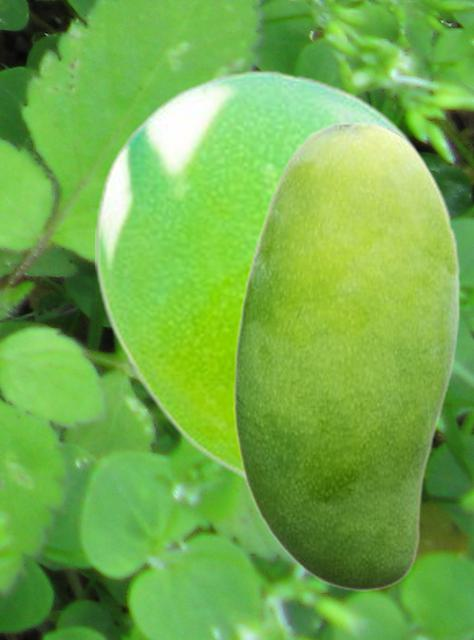green_mango: (95, 69, 442, 484), (232, 120, 460, 591)
